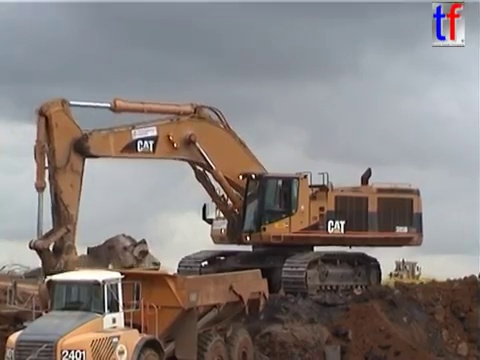excavator: (26, 94, 426, 311)
truck: (2, 265, 273, 360), (381, 256, 432, 294)
